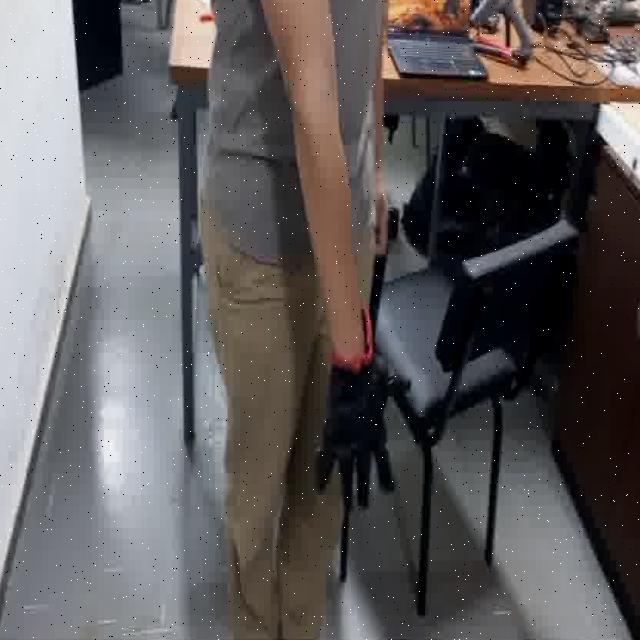Gloves: (309, 312, 412, 498)
